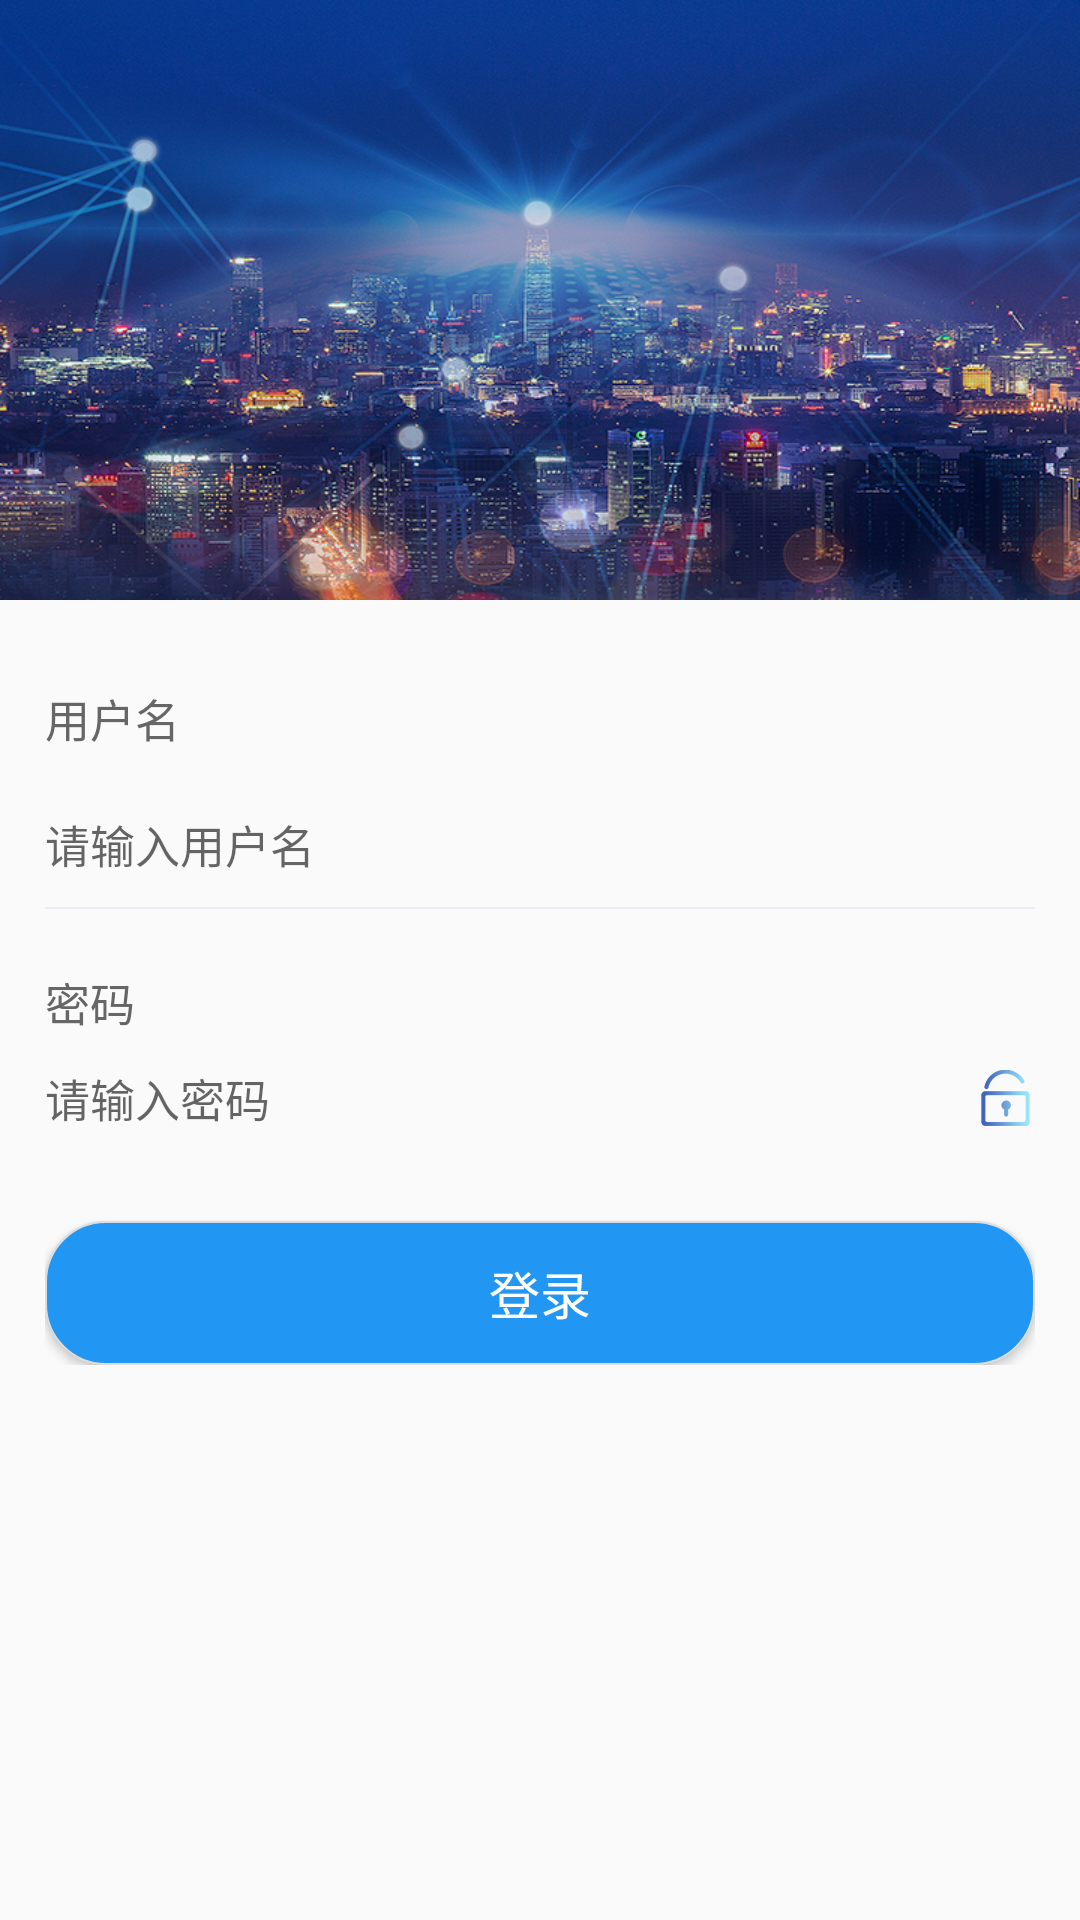

Named icons in this screenshot (1080x1920) and their bounding boxes, (x1, y1, x2, y2):
password: (981, 1070, 1030, 1126)
